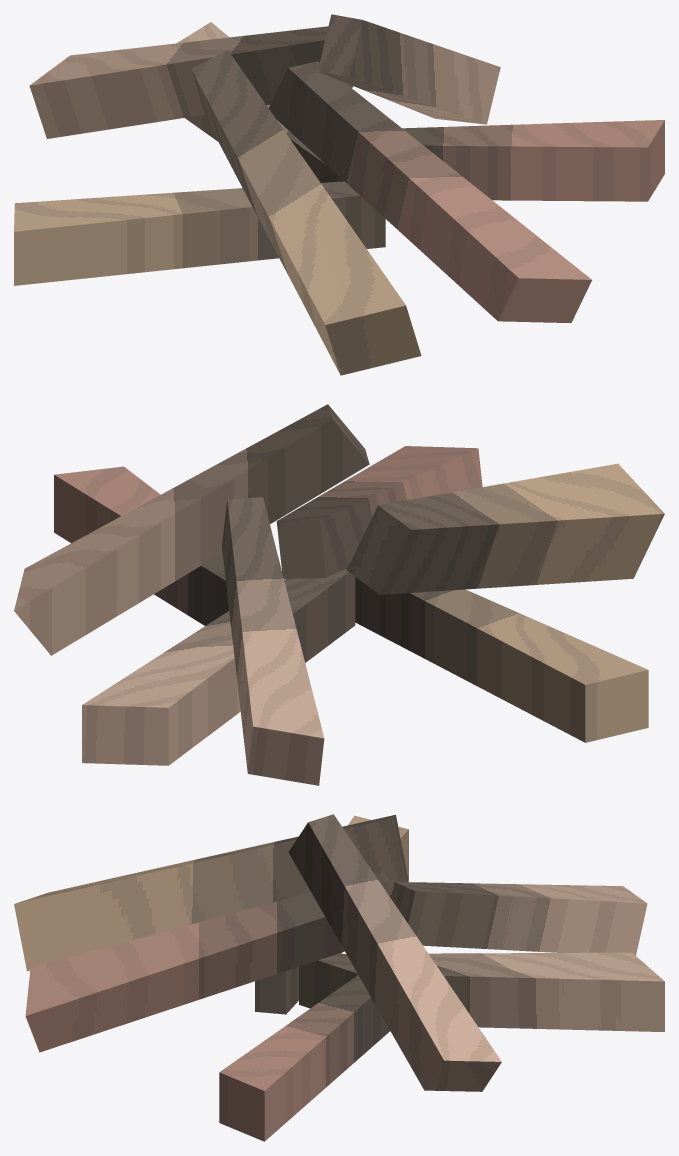
Rendered from 0550_Camp_Fire.glb.
3 views of the same model, one above another, from view 1: azimuth 30°, elevation 25°; view 2: azimuth 150°, elevation 25°; view 3: azimuth 270°, elevation 25° (orthographic). The views are drawn at different scales.
Parts seen in each view (by area): view 1: part_0; view 2: part_0; view 3: part_0.
Boxes of the visible parts, x1,y1,x2,y2 form: part_0: [14, 14, 664, 375]; part_0: [14, 404, 664, 785]; part_0: [14, 814, 664, 1141].
Bounding box in the file's own units: 0.7702 × 0.2709 × 0.7692.
1 material, 1 textured.
